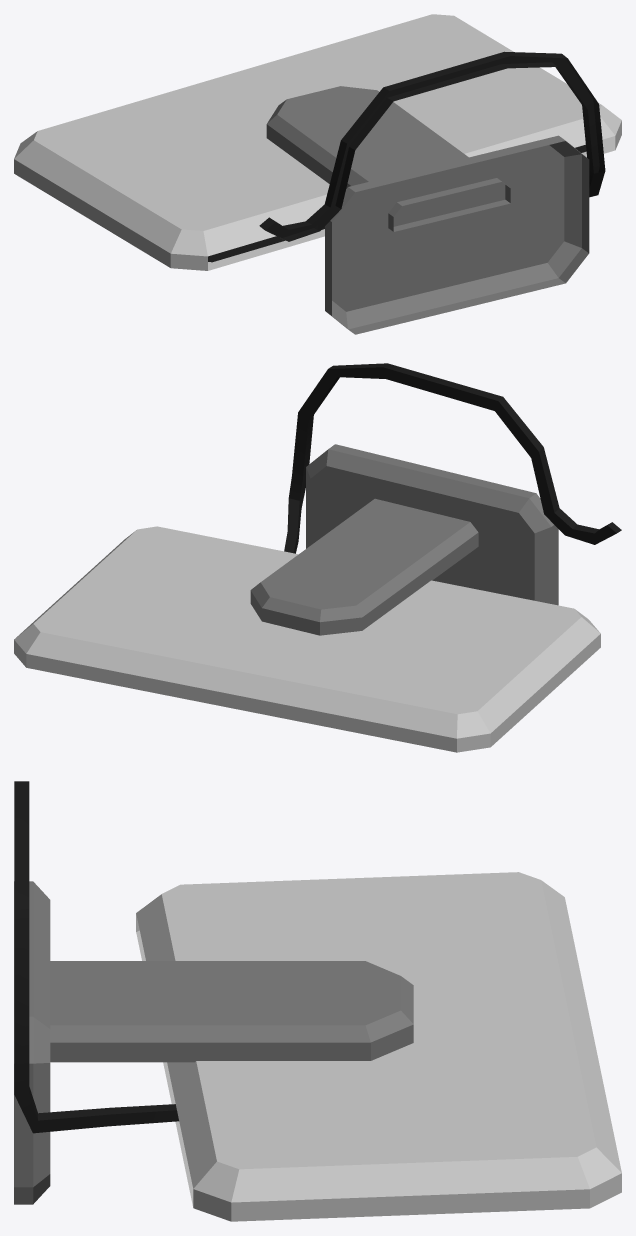
The model's file is Computer 01.FBX.
3 renders of one model, top to bottom at view 1: azimuth 30°, elevation 25°; view 2: azimuth 150°, elevation 25°; view 3: azimuth 270°, elevation 25°, orthographic. The views are drawn at different scales.
Parts seen in each view (by area): view 1: Computer 01; view 2: Computer 01; view 3: Computer 01.
Part boxes in pixels (<box>): Computer 01: <box>14,14,621,334</box>; Computer 01: <box>14,363,621,752</box>; Computer 01: <box>14,781,621,1221</box>.
Bounding box in the file's own units: 107 × 49.78 × 86.39.
